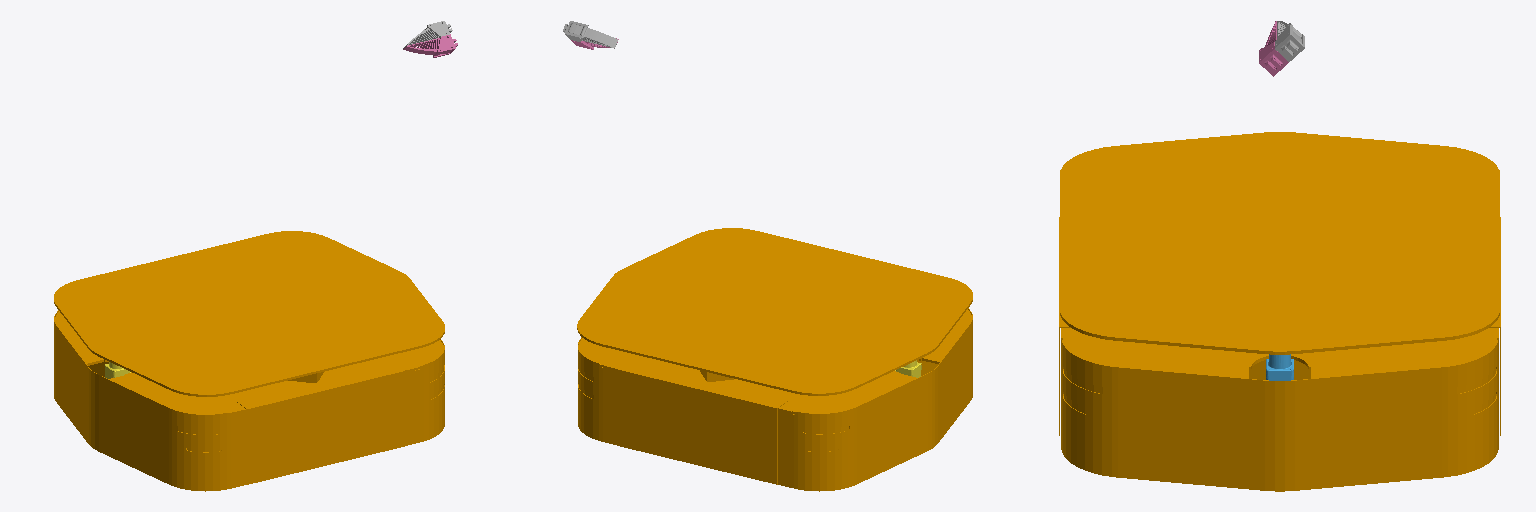
URDF robot description (base):
<?xml version="1.0" encoding="UTF-8"?>
<robot name="base">
  <joint name="panda_fixed" type="fixed">
    <origin xyz="0. 0. 0." rpy="0. -1.5707964 0."/>
    <parent link="panda_mobile"/>
    <child link="base_link"/>
    <axis xyz="0 0 0"/>
  </joint>

  <joint name="front_laser_joint" type="fixed">
    <origin xyz="0.233 0. -0.3932" rpy="0. 1.5707963 0. "/>
    <parent link="base_link"/>
    <child link="front_laser"/>
  </joint>
  <joint name="rear_laser_joint" type="fixed">
    <origin xyz="0.233 -0. 0.3932" rpy="1.5707964 -1.5707958 1.5707964"/>
    <parent link="base_link"/>
    <child link="rear_laser"/>
  </joint>

  <joint name="base_fixed" type="fixed">
    <origin rpy="0 1.5707964 0" xyz="0.28 0 -0.3"/>
    <parent link="base_link"/>
    <child link="panda_link0"/>
    <axis xyz="0 0 0"/>
  </joint>



  <link name="base_link">
    <inertial>
      <origin xyz="0.012 0.002 0.067" rpy="0. 0. 0."/>
      <mass value="1000."/>
      <inertia ixx="4.4744" ixy="0." ixz="0." iyy="7.1623998" iyz="0." izz="4.6155"/>
    </inertial>
    <visual>
      <origin xyz="0. 0. -0." rpy="0. 1.5707963 0. "/>
      <geometry>
        <mesh filename="./meshes/base_link_visuals_mesh_0.obj" scale="1. 1. 1."/>
      </geometry>
    </visual>
    <visual>
      <origin xyz="0. 0. -0." rpy="1.5707964 -1.5707958 1.5707964"/>
      <geometry>
        <mesh filename="./meshes/base_link_visuals_mesh_1.obj" scale="1. 1. 1."/>
      </geometry>
    </visual>
    <visual>
      <origin xyz="0. 0. -0." rpy="0. 1.5707963 0. "/>
      <geometry>
        <mesh filename="./meshes/mesh_2.obj" scale="1. 1. 1."/>
      </geometry>
    </visual>
    <visual>
      <origin xyz="0. 0. -0." rpy="0. 1.5707963 0. "/>
      <geometry>
        <mesh filename="./meshes/mesh_3.obj" scale="1. 1. 1."/>
      </geometry>
    </visual>
    <visual>
      <origin xyz="0. 0. -0." rpy="1.5707964 -1.5707958 1.5707964"/>
      <geometry>
        <mesh filename="./meshes/mesh_4.obj" scale="1. 1. 1."/>
      </geometry>
    </visual>
    <visual>
      <origin xyz="0. 0. -0." rpy="0. 1.5707963 0. "/>
      <geometry>
        <mesh filename="./meshes/mesh_5.obj" scale="1. 1. 1."/>
      </geometry>
    </visual>
    <visual>
      <origin xyz="0. 0. -0." rpy="1.5707964 -1.5707958 1.5707964"/>
      <geometry>
        <mesh filename="./meshes/mesh_6.obj" scale="1. 1. 1."/>
      </geometry>
    </visual>
    <visual>
      <origin xyz="0. 0. -0." rpy="0. 1.5707963 0. "/>
      <geometry>
        <mesh filename="./meshes/mesh_7.obj" scale="1. 1. 1."/>
      </geometry>
    </visual>
    <collision>
      <origin xyz="0. 0. -0." rpy="0. 1.5707963 0. "/>
      <geometry>
        <mesh filename="./meshes/base_link_collisions_mesh_0.obj" scale="1. 1. 1."/>
      </geometry>
    </collision>
    <collision>
      <origin xyz="0. 0. -0." rpy="0. 1.5707963 0. "/>
      <geometry>
        <mesh filename="./meshes/base_link_collisions_mesh_1.obj" scale="1. 1. 1."/>
      </geometry>
    </collision>
  </link>

  <link name="front_laser">
    <inertial>
      <origin xyz="0. 0. 0." rpy="0. 0. 0."/>
      <mass value="0.13"/>
      <inertia ixx="0.0000802" ixy="0." ixz="0." iyy="0.0000802" iyz="0." izz="0.0000542"/>
    </inertial>
    <visual>
      <origin xyz="0. 0. 0." rpy="0. 0. 0."/>
      <geometry>
        <mesh filename="./meshes/front_laser_visuals.obj" scale="1. 1. 1."/>
      </geometry>
    </visual>
    <collision>
      <origin xyz="0. 0. -0.0122" rpy="0. 0. 0."/>
      <geometry>
        <box size="0.05 0.05 0.07"/>
      </geometry>
    </collision>
  </link>
  <link name="panda_mobile"/>
  <link name="rear_laser">
    <inertial>
      <origin xyz="0. 0. 0." rpy="0. 0. 0."/>
      <mass value="0.13"/>
      <inertia ixx="0.0000802" ixy="0." ixz="0." iyy="0.0000802" iyz="0." izz="0.0000542"/>
    </inertial>
    <visual>
      <origin xyz="0. -0. 0." rpy="0. 0. -0."/>
      <geometry>
        <mesh filename="./meshes/rear_laser_visuals.obj" scale="1. 1. 1."/>
      </geometry>
    </visual>
    <collision>
      <origin xyz="0. -0. -0.0122" rpy="0. 0. -0."/>
      <geometry>
        <box size="0.05 0.05 0.07"/>
      </geometry>
    </collision>
  </link>
  <link name="panda_link0">
    <visual>
      <geometry>
        <mesh filename="meshes/visual/link0.dae"/>
      </geometry>
    </visual>
    <collision>
      <geometry>
        <mesh filename="meshes/collision/link0.obj"/>
      </geometry>
    </collision>


  </link>
  <link name="panda_link1">
    <visual>
      <geometry>
        <mesh filename="meshes/visual/link1.dae"/>
      </geometry>
    </visual>
    <collision>
      <geometry>
        <mesh filename="meshes/collision/link1.obj"/>
      </geometry>
    </collision>
    <inertial>
      <origin rpy="0 0 0" xyz="0.00033 -0.02204 -0.04762"/>
      <mass value="2.797"/>
      <inertia ixx="0.0156" ixy="0.0" ixz="0.0" iyy="0.01439" iyz="-0.0024" izz="0.005"/>
    </inertial>
  </link>
  <joint name="panda_joint1" type="revolute">
    <safety_controller k_position="100.0" k_velocity="40.0" soft_lower_limit="-2.8973" soft_upper_limit="2.8973"/>
    <origin rpy="0 0 0" xyz="0 0 0.333"/>
    <parent link="panda_link0"/>
    <child link="panda_link1"/>
    <axis xyz="0 0 1"/>
    <dynamics damping="10.0"/>
    <limit effort="87" lower="-2.8973" upper="2.8973" velocity="2.1750"/>
  </joint>
  <link name="panda_link2">
    <visual>
      <geometry>
        <mesh filename="meshes/visual/link2.dae"/>
      </geometry>
    </visual>
    <collision>
      <geometry>
        <mesh filename="meshes/collision/link2.obj"/>
      </geometry>
    </collision>
    <inertial>
      <origin rpy="0 0 0" xyz="0.00038 -0.09211 0.01908"/>
      <mass value="2.542"/>
      <inertia ixx="0.0166" ixy="0.0" ixz="0.0" iyy="0.0046" iyz="0.0035" izz="0.015"/>
    </inertial>
  </link>
  <joint name="panda_joint2" type="revolute">
    <safety_controller k_position="100.0" k_velocity="40.0" soft_lower_limit="-1.7628" soft_upper_limit="1.7628"/>
    <origin rpy="-1.57079632679 0 0" xyz="0 0 0"/>
    <parent link="panda_link1"/>
    <child link="panda_link2"/>
    <axis xyz="0 0 1"/>
    <dynamics damping="10.0"/>
    <limit effort="87" lower="-1.7628" upper="1.7628" velocity="2.1750"/>
  </joint>
  <link name="panda_link3">
    <visual>
      <geometry>
        <mesh filename="meshes/visual/link3.dae"/>
      </geometry>
    </visual>
    <collision>
      <geometry>
        <mesh filename="meshes/collision/link3.obj"/>
      </geometry>
    </collision>
    <inertial>
      <origin rpy="0 0 0" xyz="0.05152 0.01696 -0.02971"/>
      <mass value="2.2513"/>
      <inertia ixx="0.006" ixy="0.009" ixz="0.003" iyy="0.0086" iyz="0.009" izz="0.0065"/>
    </inertial>
  </link>
  <joint name="panda_joint3" type="revolute">
    <safety_controller k_position="100.0" k_velocity="40.0" soft_lower_limit="-2.8973" soft_upper_limit="2.8973"/>
    <origin rpy="1.57079632679 0 0" xyz="0 -0.316 0"/>
    <parent link="panda_link2"/>
    <child link="panda_link3"/>
    <axis xyz="0 0 1"/>
    <dynamics damping="10.0"/>
    <limit effort="87" lower="-2.8973" upper="2.8973" velocity="2.1750"/>
  </joint>
  <link name="panda_link4">
    <visual>
      <geometry>
        <mesh filename="meshes/visual/link4.dae"/>
      </geometry>
    </visual>
    <collision>
      <geometry>
        <mesh filename="meshes/collision/link4.obj"/>
      </geometry>
    </collision>
    <inertial>
      <origin rpy="0 0 0" xyz="-0.05113 0.05825 0.01698"/>
      <mass value="2.2037"/>
      <inertia ixx="0.0156" ixy="0.0" ixz="0.0" iyy="0.01439" iyz="-0.0024" izz="0.005"/>
    </inertial>
  </link>
  <joint name="panda_joint4" type="revolute">
    <safety_controller k_position="100.0" k_velocity="40.0" soft_lower_limit="-3.0718" soft_upper_limit="-0.0698"/>
    <origin rpy="1.57079632679 0 0" xyz="0.0825 0 0"/>
    <parent link="panda_link3"/>
    <child link="panda_link4"/>
    <axis xyz="0 0 1"/>
    <dynamics damping="10.0"/>
    <limit effort="87" lower="-3.0718" upper="-0.0698" velocity="2.1750"/>
    <!-- something is weird with this joint limit config
    <dynamics damping="10.0"/>
    <limit effort="87" lower="-3.0" upper="0.087" velocity="2.1750"/>  -->
  </joint>
  <link name="panda_link5">
    <visual>
      <geometry>
        <mesh filename="meshes/visual/link5.dae"/>
      </geometry>
    </visual>
    <collision>
      <geometry>
        <mesh filename="meshes/collision/link5.obj"/>
      </geometry>
    </collision>
    <inertial>
      <origin rpy="0 0 0" xyz="-0.00005 0.03730 -0.09280"/>
      <mass value="2.2855"/>
      <inertia ixx="0.02297014781" ixy="0.0" ixz="0.0" iyy="0.02095060919" iyz="0.00382345782" izz="0.00430606551"/>
    </inertial>
  </link>
  <joint name="panda_joint5" type="revolute">
    <safety_controller k_position="100.0" k_velocity="40.0" soft_lower_limit="-2.8973" soft_upper_limit="2.8973"/>
    <origin rpy="-1.57079632679 0 0" xyz="-0.0825 0.384 0"/>
    <parent link="panda_link4"/>
    <child link="panda_link5"/>
    <axis xyz="0 0 1"/>
    <dynamics damping="10.0"/>
    <limit effort="12" lower="-2.8973" upper="2.8973" velocity="2.6100"/>
  </joint>
  <link name="panda_link6">
    <visual>
      <geometry>
        <mesh filename="meshes/visual/link6.dae"/>
      </geometry>
    </visual>
    <collision>
      <geometry>
        <mesh filename="meshes/collision/link6.obj"/>
      </geometry>
    </collision>
    <inertial>
      <origin rpy="0 0 0" xyz="0.06572 -0.00371 0.00153"/>
      <mass value="1.353"/>
      <inertia ixx="0.00087964522" ixy="-0.00021487814" ixz="-0.00011911662" iyy="0.00277796968" iyz="0.00001274322" izz="0.00286701969"/>
    </inertial>
  </link>
  <joint name="panda_joint6" type="revolute">
    <safety_controller k_position="100.0" k_velocity="40.0" soft_lower_limit="-0.0175" soft_upper_limit="3.7525"/>
    <origin rpy="1.57079632679 0 0" xyz="0 0 0"/>
    <parent link="panda_link5"/>
    <child link="panda_link6"/>
    <axis xyz="0 0 1"/>
    <dynamics damping="10.0"/>
    <limit effort="12" lower="-0.0175" upper="3.7525" velocity="2.6100"/>
    <!-- <dynamics damping="10.0"/>
    <limit effort="12" lower="-0.0873" upper="3.0" velocity="2.6100"/> -->
  </joint>
  <link name="panda_link7">
    <visual>
      <geometry>
        <mesh filename="meshes/visual/link7.dae"/>
      </geometry>
    </visual>
    <collision>
      <geometry>
        <mesh filename="meshes/collision/link7.obj"/>
      </geometry>
    </collision>
        <inertial>
      <origin rpy="0 0 0" xyz="0.00089 -0.00044 0.05491"/>
      <mass value="0.35973"/>
      <inertia ixx="0.00019541063" ixy="0.00000165231" ixz="0.00000148826" iyy="0.00019210361" iyz="-0.00000131132" izz="0.00017936256"/>
    </inertial>
  </link>
  <joint name="panda_joint7" type="revolute">
    <safety_controller k_position="100.0" k_velocity="40.0" soft_lower_limit="-2.8973" soft_upper_limit="2.8973"/>
    <origin rpy="1.57079632679 0 0" xyz="0.088 0 0"/>
    <parent link="panda_link6"/>
    <child link="panda_link7"/>
    <axis xyz="0 0 1"/>
    <dynamics damping="10.0"/>
    <limit effort="12" lower="-2.8973" upper="2.8973" velocity="2.6100"/>
  </joint>

  <link name="panda_link8"/>
  <joint name="panda_joint8" type="fixed">
    <origin rpy="0 0 0" xyz="0 0 0.107"/>
    <parent link="panda_link7"/>
    <child link="panda_link8"/>
    <axis xyz="0 0 0"/>
  </joint>
  <joint name="panda_hand_joint" type="fixed">
    <parent link="panda_link8"/>
    <child link="panda_hand"/>

    <origin rpy="0 0 -0.785398163397" xyz="0 0 0"/>
  </joint>
  <link name="panda_hand">
    <visual>
      <geometry>
        <mesh filename="meshes/visual/hand.dae"/>
      </geometry>
    </visual>
    <collision>
      <geometry>
        <mesh filename="meshes/collision/hand.obj"/>
      </geometry>
    </collision>
  </link>
  <link name="panda_leftfinger">
    <visual>
      <origin rpy="3.14159265 0 1.518436" xyz="0.19396 0.18106 -0.03563"/>
      <geometry>
        <mesh filename="meshes/visual/umi_gripper.obj"/>
      </geometry>
    </visual>
    <collision>
      <geometry>
        <mesh filename="meshes/collision/umi_gripper.obj"/>
      </geometry>
    </collision>
  </link>
  <link name="panda_rightfinger">
    <visual>
      <origin rpy="3.14159265 0 -1.623156" xyz="-0.19043 -0.18753 -0.03563"/>
      <geometry>
        <mesh filename="meshes/visual/umi_gripper.obj"/>
      </geometry>
    </visual>
    <collision>
      <geometry>
        <mesh filename="meshes/collision/umi_gripper.obj"/>
      </geometry>
    </collision>
  </link>
  <joint name="panda_finger_joint1" type="prismatic">
    <parent link="panda_hand"/>
    <child link="panda_leftfinger"/>
    <origin rpy="0 0 0" xyz="0 0 0.0584"/>
    <axis xyz="0 1 0"/>
    <dynamics damping="10.0"/>
    <limit effort="20" lower="0.0" upper="0.04" velocity="0.2"/>
  </joint>
  <joint name="panda_finger_joint2" type="prismatic">
    <parent link="panda_hand"/>
    <child link="panda_rightfinger"/>
    <origin rpy="0 0 0" xyz="0 0 0.0584"/>
    <axis xyz="0 -1 0"/>
    <dynamics damping="10.0"/>
    <limit effort="20" lower="0.0" upper="0.04" velocity="0.2"/>
  </joint>

  <link name="ee_link"/>

  <joint name="ee_fixed_joint" type="fixed">
    <parent link="panda_hand"/>
    <child link="ee_link"/>
    <origin rpy="0 0.0 0" xyz="0.0 0.0 0.0"/>
  </joint>
  <link name="right_gripper">
    <inertial>
      <!-- Dummy inertial parameters to avoid link lumping-->
      <mass value="0.01"/>
      <inertia ixx="0.0001" ixy="0.0" ixz="0.0" iyy="0.0001" iyz="0.0" izz="0.0001"/>
      <origin rpy="0 0 0" xyz="0 0 0"/>
    </inertial>
  </link>
  <joint name="right_gripper" type="fixed">
    <!--<origin rpy="0 0 2.35619449019" xyz="0 0 0.1"/>-->
    <origin rpy="0 0 2.35619449019" xyz="0 0 0.207"/>
    <axis xyz="0 0 1"/>
    <parent link="panda_link7"/>
    <!--<parent link="panda_link8"/>-->
    <child link="right_gripper"/>
  </joint>

</robot>

--- Facts derived from the render (not from the file) ---
The picture shows the robot from 3 angles, left to right: view 1: azimuth 30°, elevation 25°; view 2: azimuth 150°, elevation 25°; view 3: azimuth 270°, elevation 25°; orthographic projection.
Robot: base — 18 links, 17 joints (7 revolute, 2 prismatic, 8 fixed); root link panda_mobile; default pose: joints at zero except 1 at the middle of their limits (panda_joint4 = -1.57).
Visible links, largest first — view 1: base_link, panda_leftfinger; view 2: base_link, panda_rightfinger; view 3: base_link, panda_rightfinger, panda_leftfinger, front_laser.
Boxes of the visible links, x1,y1,x2,y2 form: base_link: [54, 231, 444, 491]; panda_leftfinger: [403, 34, 457, 57]; base_link: [577, 228, 972, 491]; panda_rightfinger: [563, 21, 617, 48]; base_link: [1059, 132, 1500, 491]; panda_rightfinger: [1275, 21, 1304, 61]; panda_leftfinger: [1259, 21, 1288, 76]; front_laser: [1266, 354, 1293, 380].
Bounding box of the posed robot: 1.07 × 0.7932 × 0.9627 m (x, y, z).
Meshes: 20 distinct files referenced, 12 mesh visuals loaded (11 OBJ); not drawn: 9 (reference not matched to a file when rendering).
